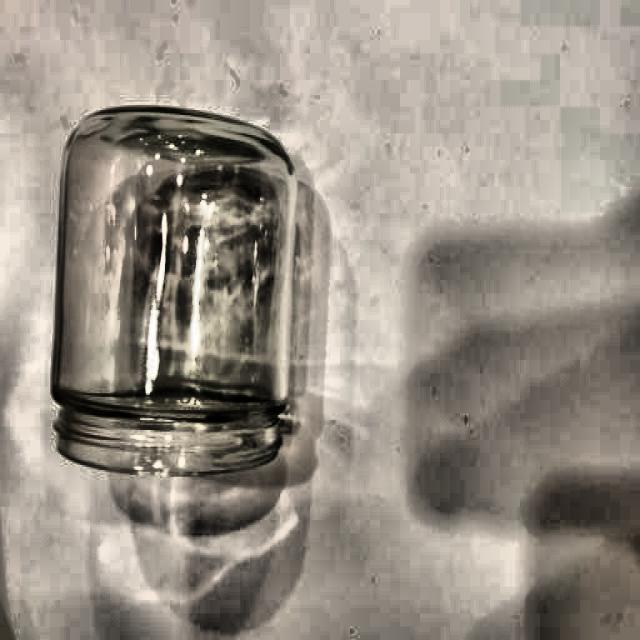glass: (49, 100, 300, 476)
